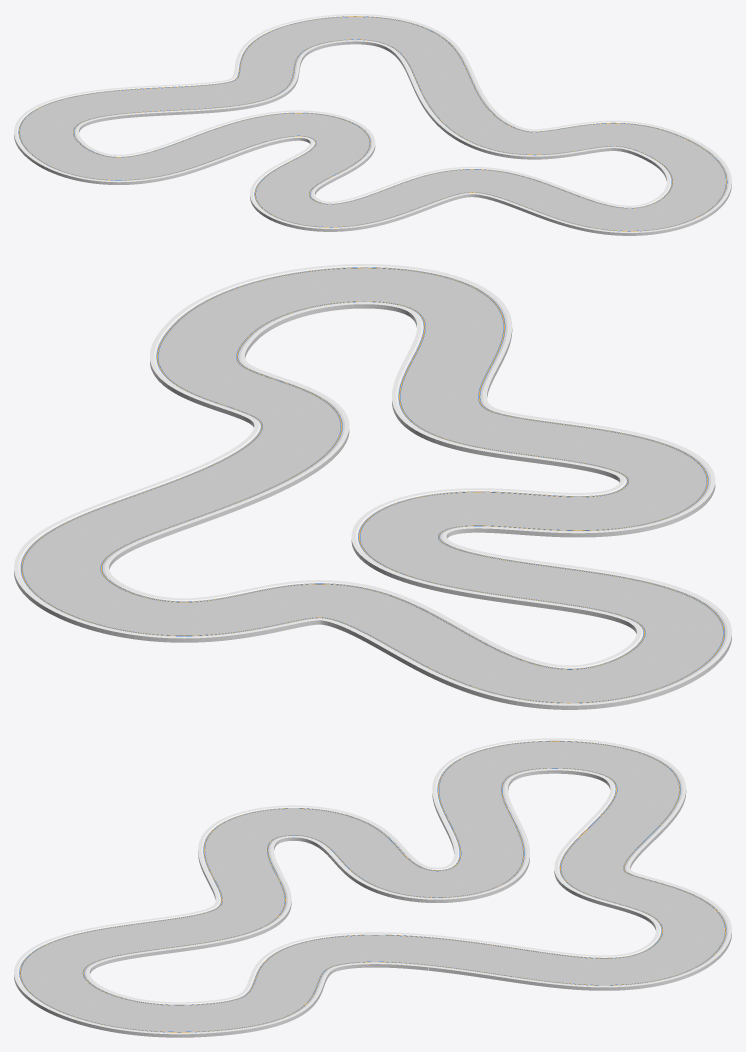
File: track.glb
The picture shows the model from 3 angles, top to bottom: view 1: azimuth 30°, elevation 25°; view 2: azimuth 150°, elevation 25°; view 3: azimuth 270°, elevation 25°; orthographic projection. The views are drawn at different scales.
Visible parts, largest first — view 1: Track; view 2: Track; view 3: Track.
Boxes of the visible parts, left/top/right/bottom form: Track: left=14, top=14, right=731, bottom=235; Track: left=14, top=264, right=731, bottom=709; Track: left=14, top=738, right=731, bottom=1037.
Bounding box in the file's own units: 222 × 1.19 × 227.
